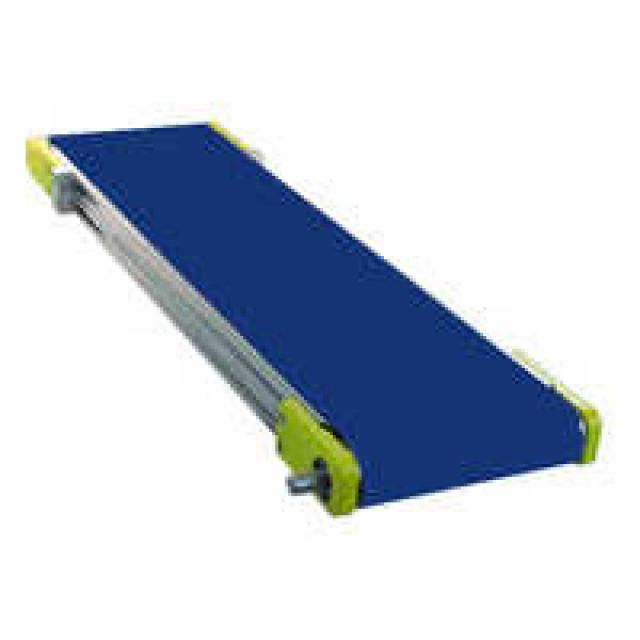conveyor: (25, 106, 620, 546)
